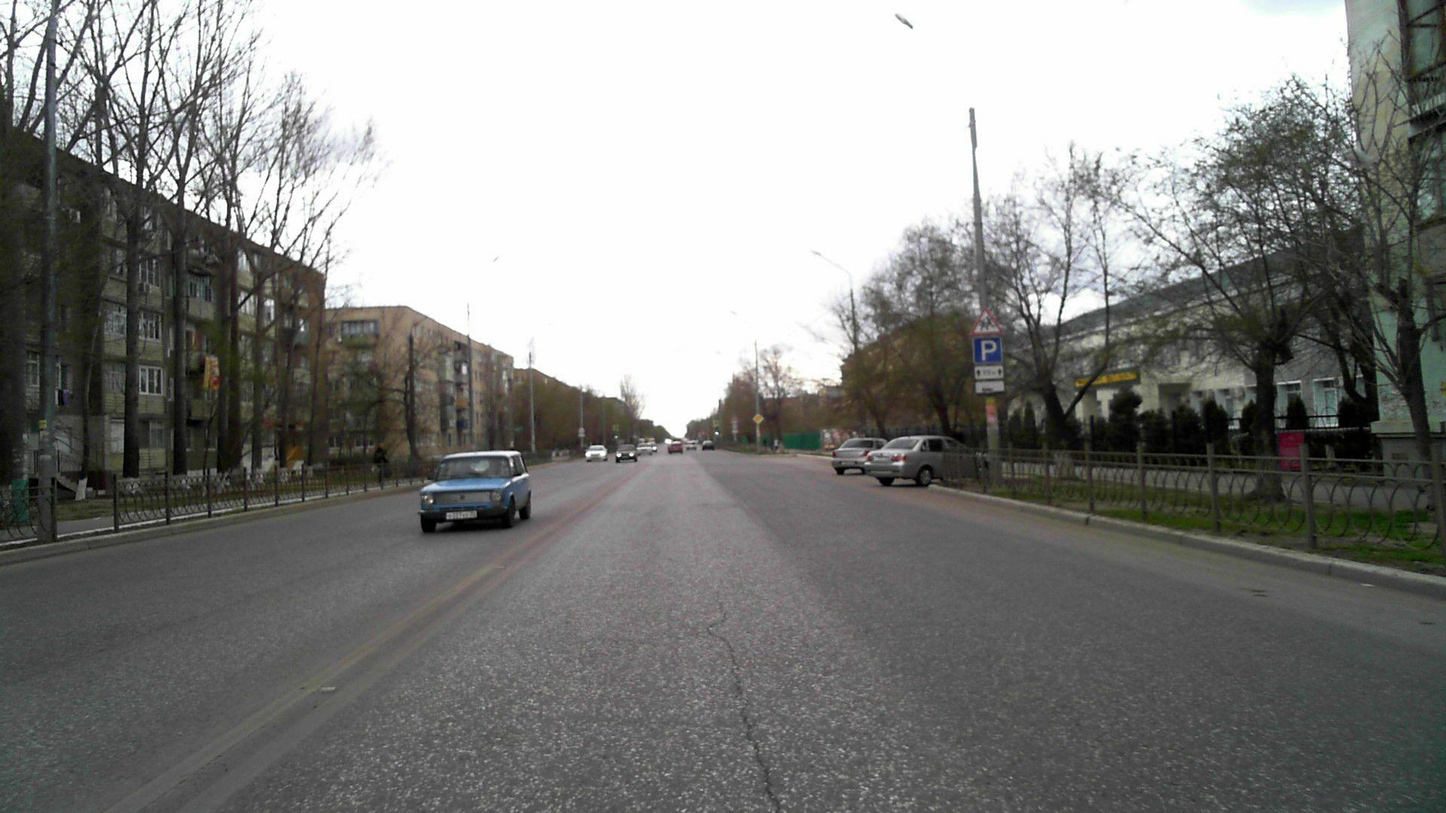road_sign: (971, 306, 1005, 335), (971, 336, 1004, 365), (973, 365, 1005, 382), (973, 379, 1006, 394)
